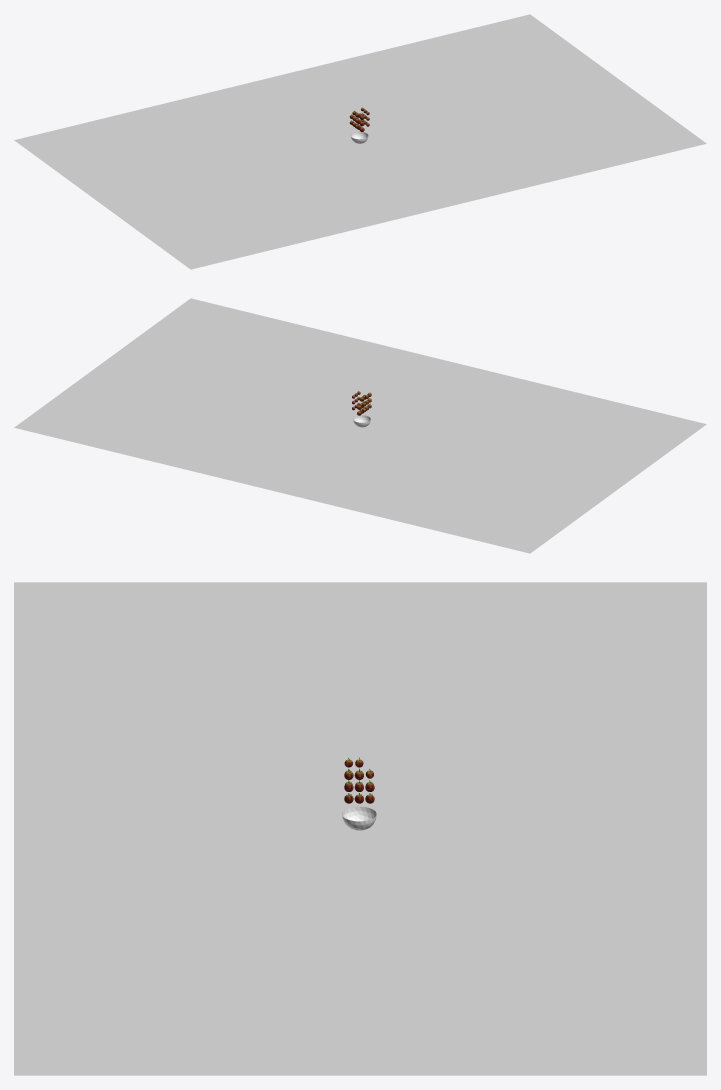
The model's file is apple.glb.
The picture shows the model from 3 angles, top to bottom: view 1: azimuth 30°, elevation 25°; view 2: azimuth 150°, elevation 25°; view 3: azimuth 270°, elevation 25°; orthographic projection. The views are drawn at different scales.
Visible parts, largest first — view 1: Plane.049, Plane.048, Plane.046, Plane.041, Plane.047, Plane.045, Plane.042, Plane.044, Plane.030; view 2: Plane.044, Plane.048, Plane.045, Plane.047, Plane.042, Plane.049, Plane.041, Plane.046, Plane.030; view 3: Plane.047, Plane.044, Plane.045, Plane.048, Plane.046, Plane.049, Plane.041, Plane.042, Plane.030.
Boxes of the visible parts, x1,y1,x2,y2 form: Plane.049: [475, 100, 706, 185]; Plane.048: [357, 14, 588, 99]; Plane.046: [132, 184, 363, 269]; Plane.041: [185, 56, 415, 141]; Plane.047: [417, 57, 647, 142]; Plane.045: [14, 98, 242, 183]; Plane.042: [305, 142, 533, 227]; Plane.044: [73, 142, 301, 226]; Plane.030: [244, 99, 474, 185]; Plane.044: [416, 425, 647, 510]; Plane.048: [14, 384, 245, 469]; Plane.045: [357, 468, 588, 553]; Plane.047: [73, 341, 304, 426]; Plane.042: [305, 340, 536, 425]; Plane.049: [132, 298, 363, 383]; Plane.041: [187, 426, 415, 511]; Plane.046: [478, 382, 706, 466]; Plane.030: [247, 383, 473, 468]; Plane.047: [243, 910, 475, 1075]; Plane.044: [243, 582, 475, 747]; Plane.045: [475, 582, 706, 747]; Plane.048: [475, 910, 706, 1075]; Plane.046: [14, 582, 245, 747]; Plane.049: [14, 910, 245, 1075]; Plane.041: [475, 745, 706, 910]; Plane.042: [14, 745, 245, 910]; Plane.030: [243, 745, 475, 910].
Bounding box in the file's own units: 439 × 26.96 × 261.
5 materials, 1 textured.
